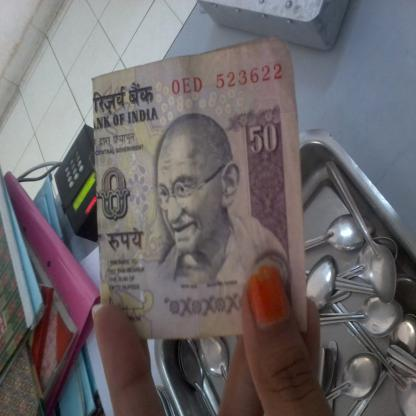Old50Front: (91, 34, 308, 340)
